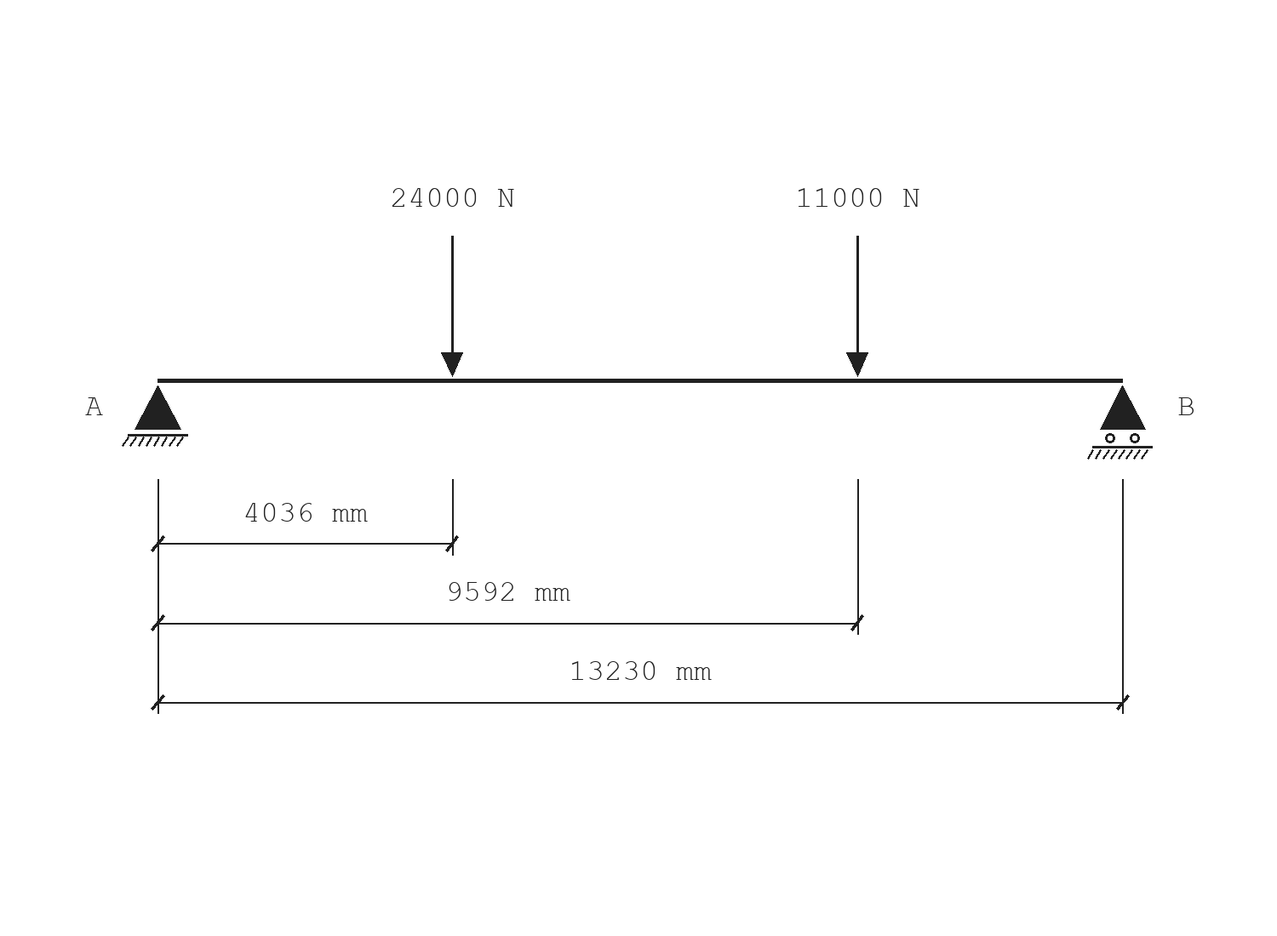pin_support: (122, 385, 188, 447)
point_load: (441, 236, 463, 377), (846, 236, 868, 377)
roller_support: (1087, 385, 1153, 459)
